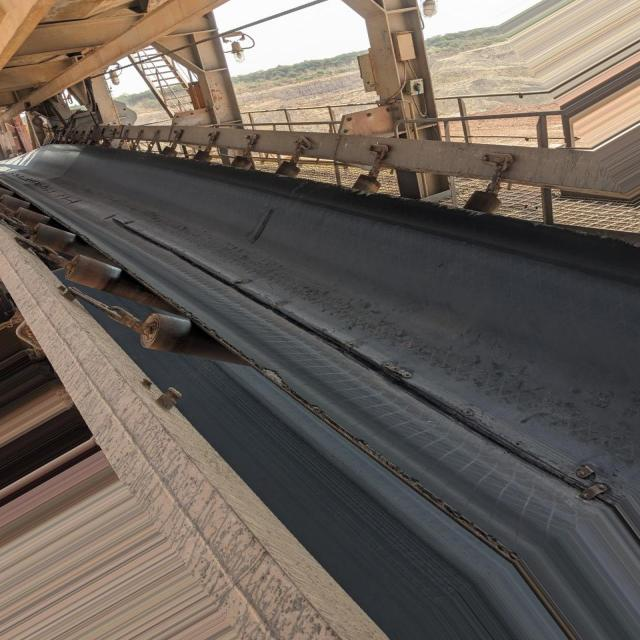Roller: (136, 312, 247, 370), (62, 260, 167, 307)
Tear: (111, 213, 589, 495)
